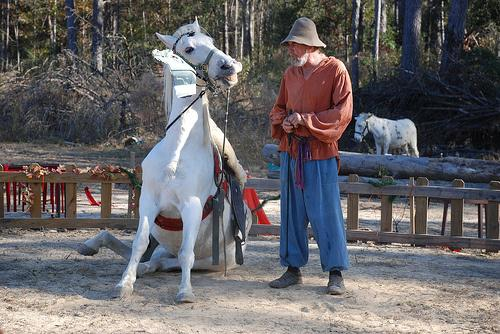tampered: (152, 50, 196, 98)
